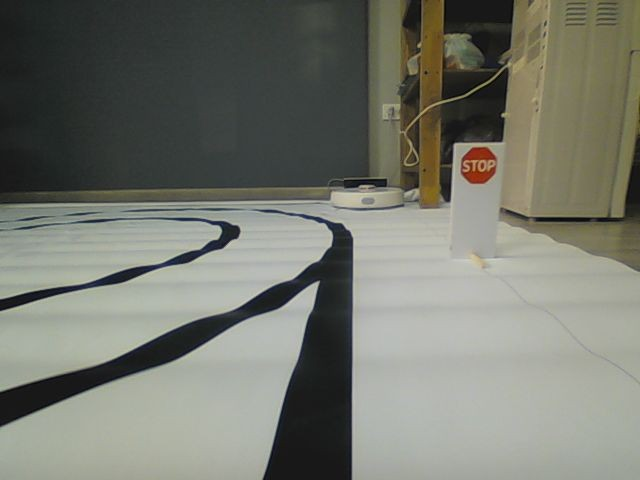Stop: (459, 146, 499, 185)
